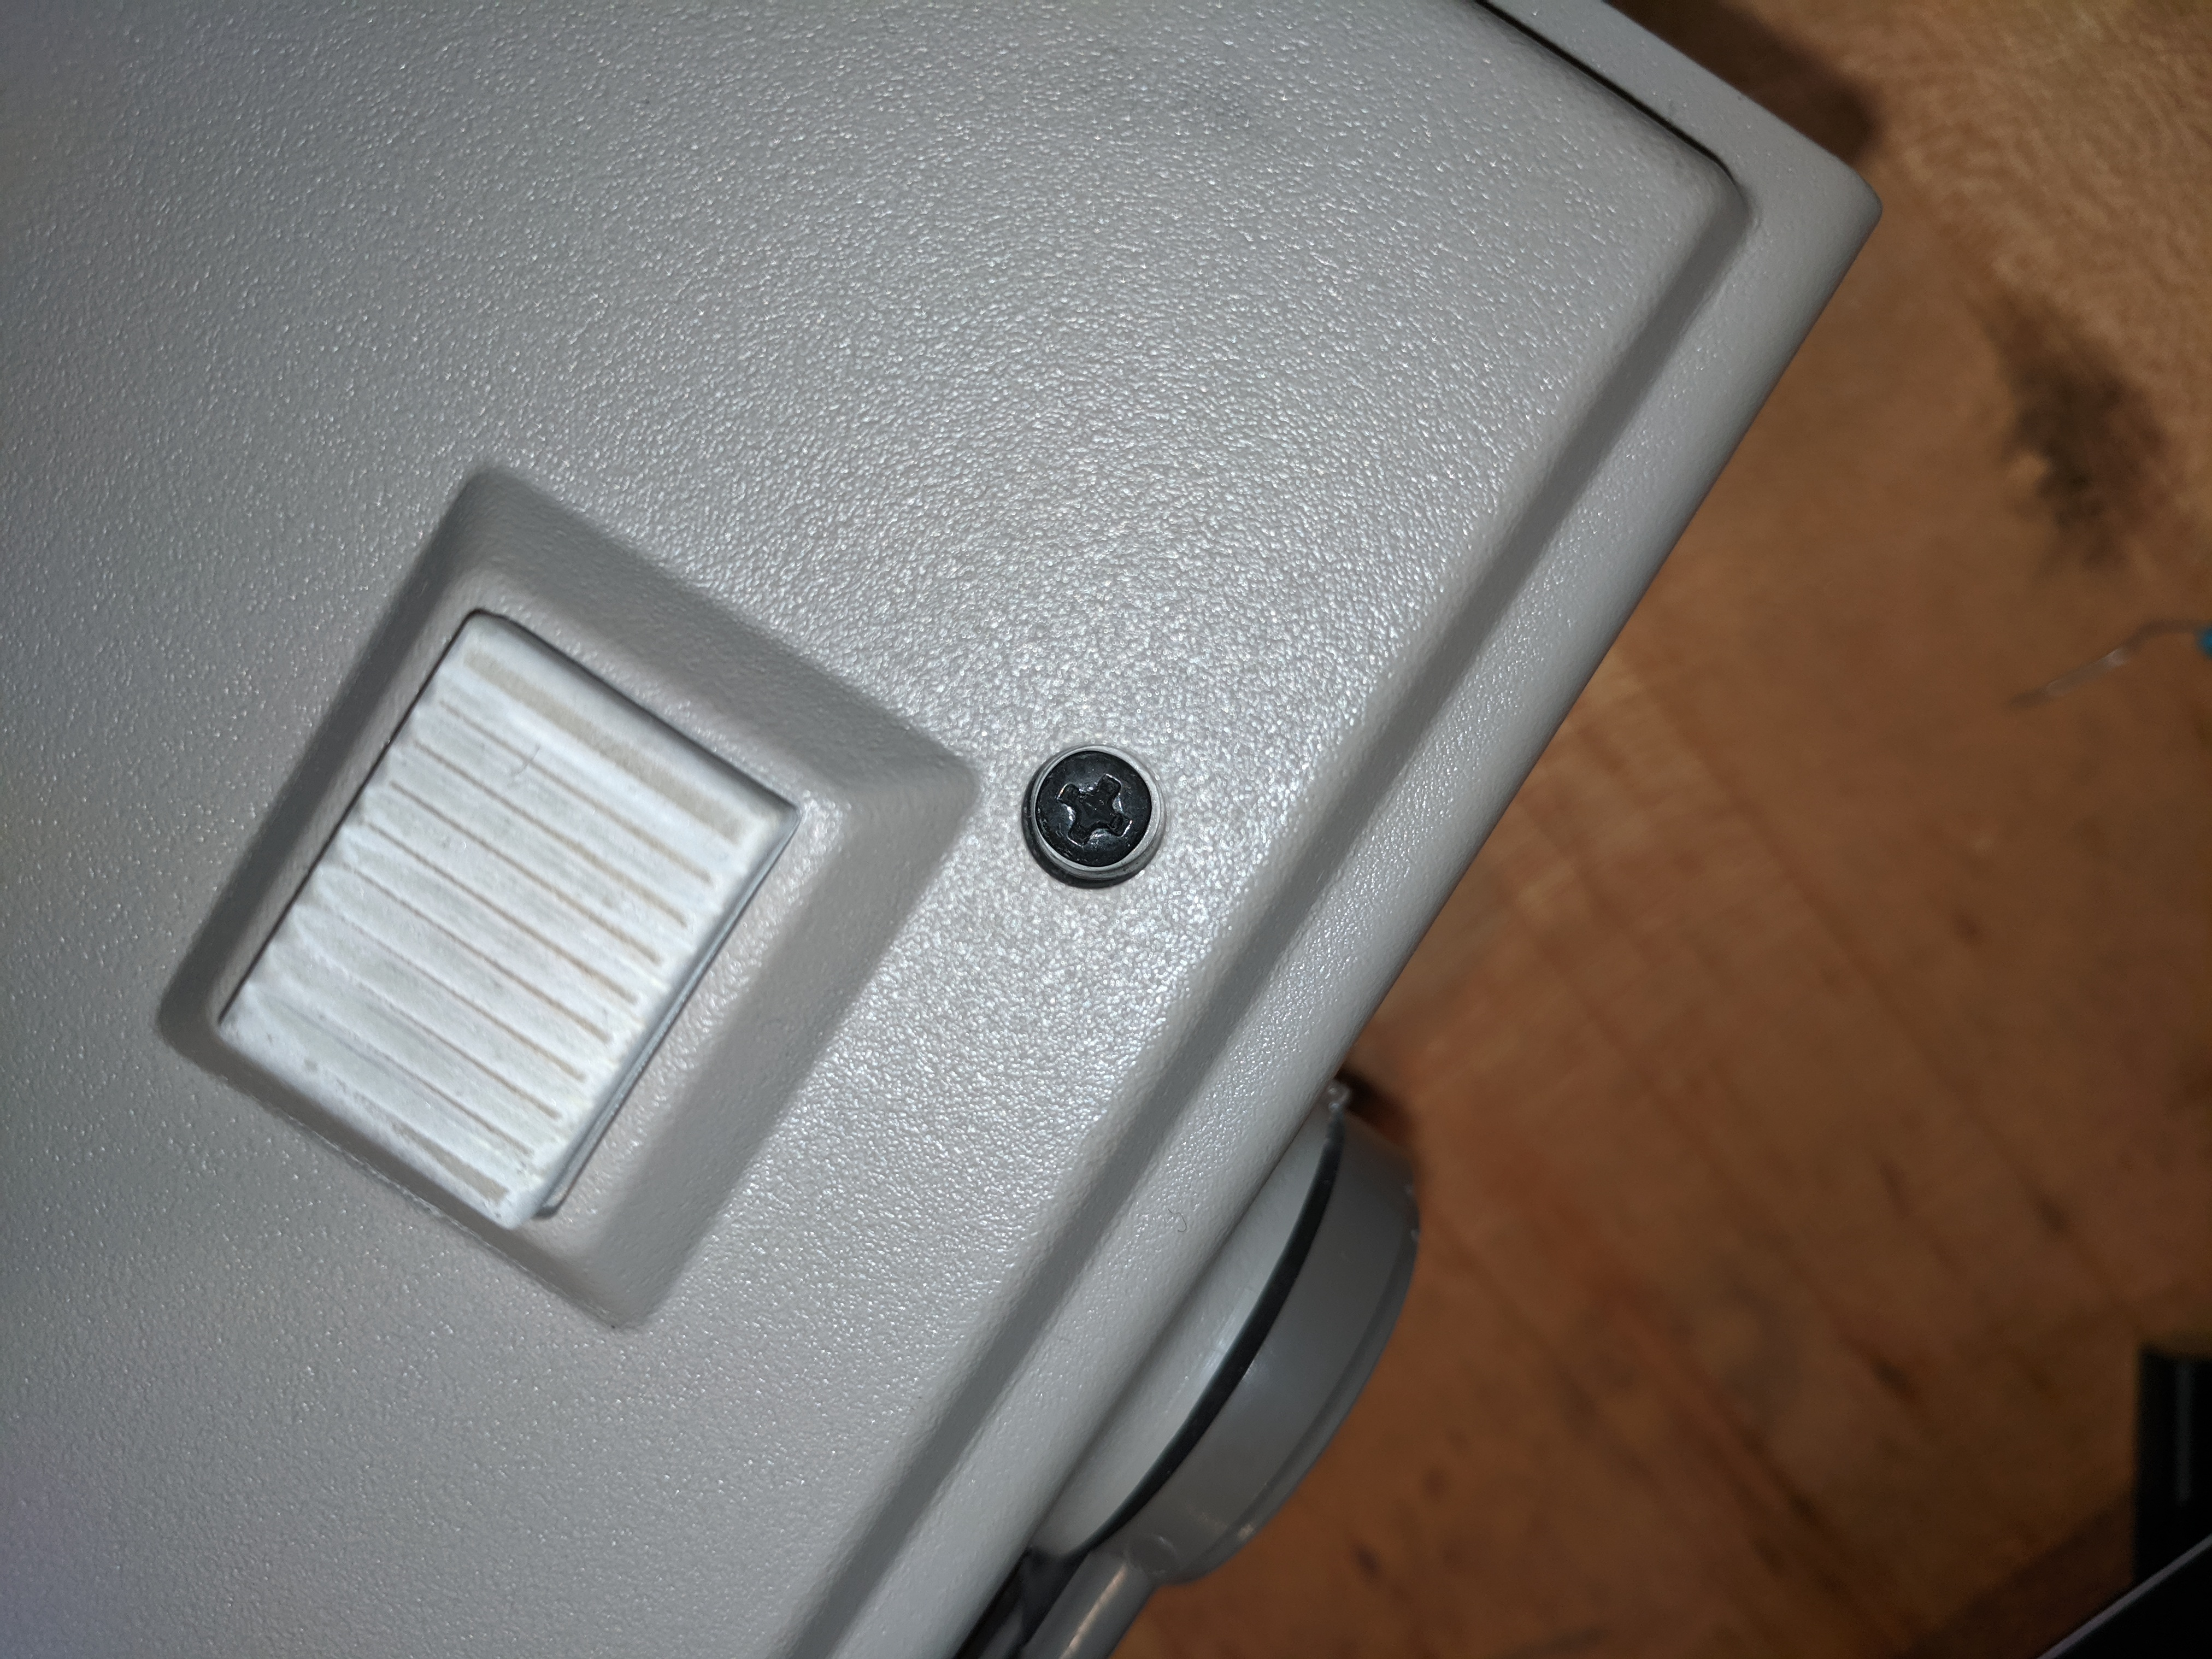cross_recessed_screw: (1024, 737, 1160, 877)
